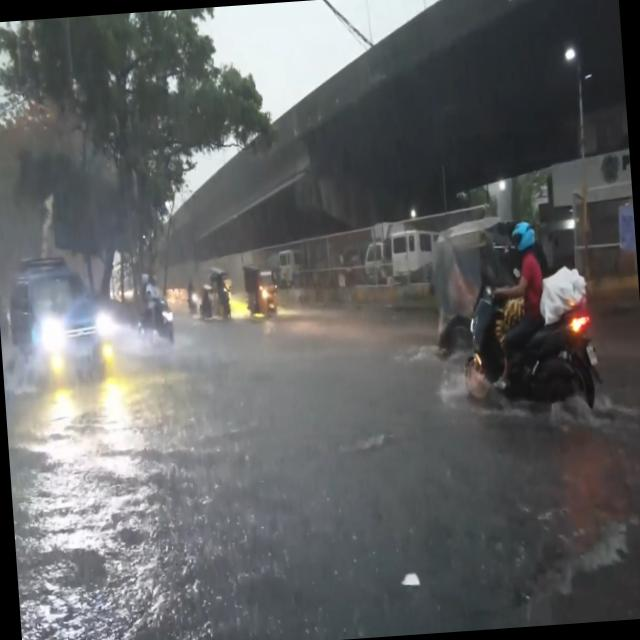half: (508, 219, 538, 258)
